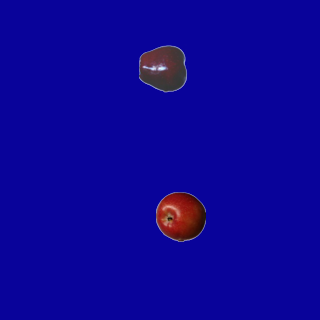Apple Braeburn: (155, 191, 205, 241)
Apple Red Delicious: (138, 43, 188, 93)
